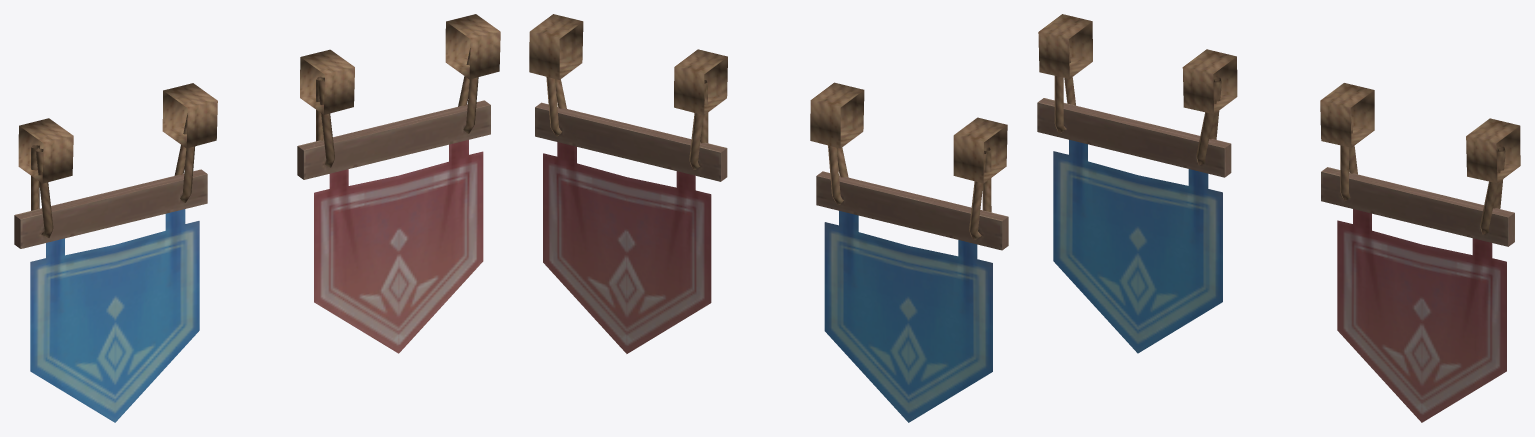
Rendered from Homeworld_Ani_Exterior_Md_Build_TracellerBooth_04_02_Vo.fbx.
3 renders of one model, left to right at view 1: azimuth 30°, elevation 25°; view 2: azimuth 150°, elevation 25°; view 3: azimuth 330°, elevation 25°, orthographic.
Visible parts, largest first — view 1: Property_Ani_Prop_MarkertDeco_05_02_Vo; view 2: Property_Ani_Prop_MarkertDeco_05_02_Vo; view 3: Property_Ani_Prop_MarkertDeco_05_02_Vo.
Boxes of the visible parts, x1,y1,x2,y2 form: Property_Ani_Prop_MarkertDeco_05_02_Vo: (14, 14, 500, 422); Property_Ani_Prop_MarkertDeco_05_02_Vo: (529, 14, 1008, 422); Property_Ani_Prop_MarkertDeco_05_02_Vo: (1037, 14, 1520, 422).
Bounding box in the file's own units: 1.26 × 0.7945 × 0.1142.
